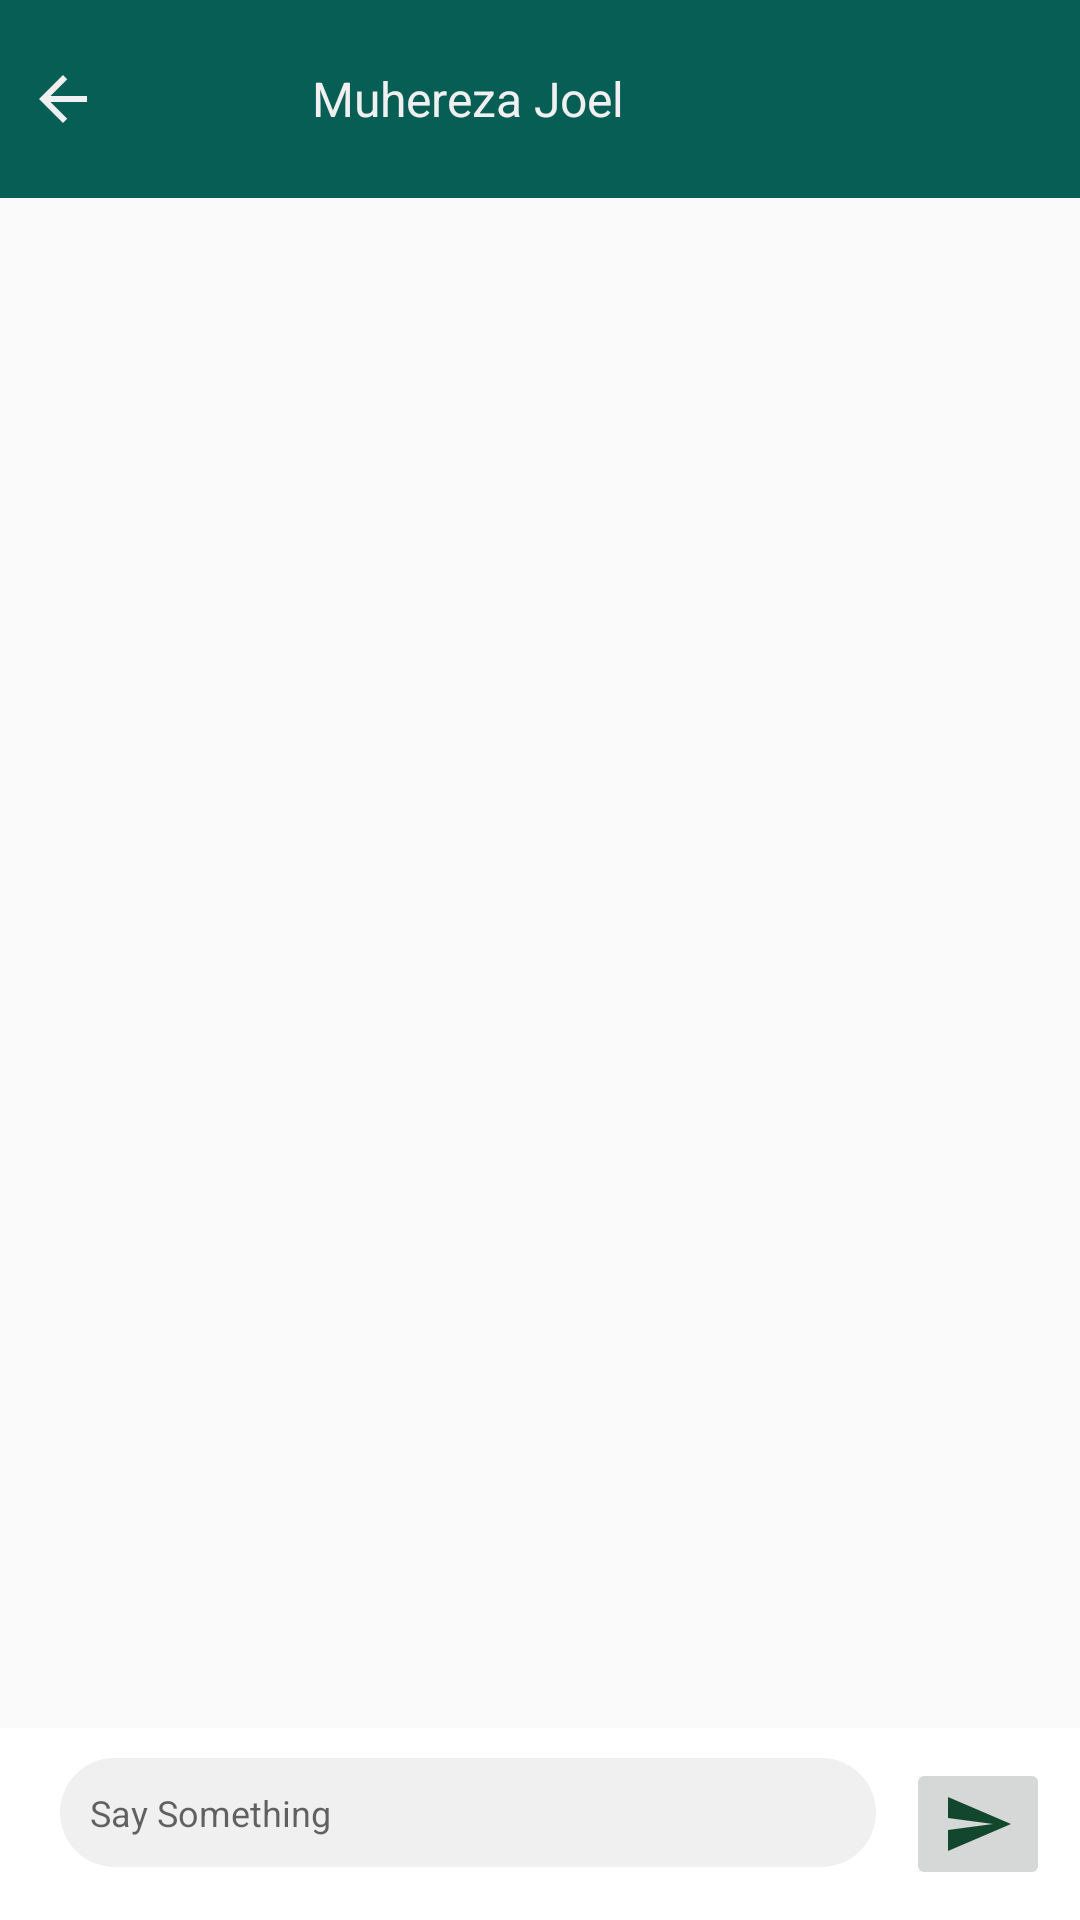

Screen size 1080*1920. Icon name, then its center in pixels as (x,y):
back arrow: (63,99)
send: (978,1824)
